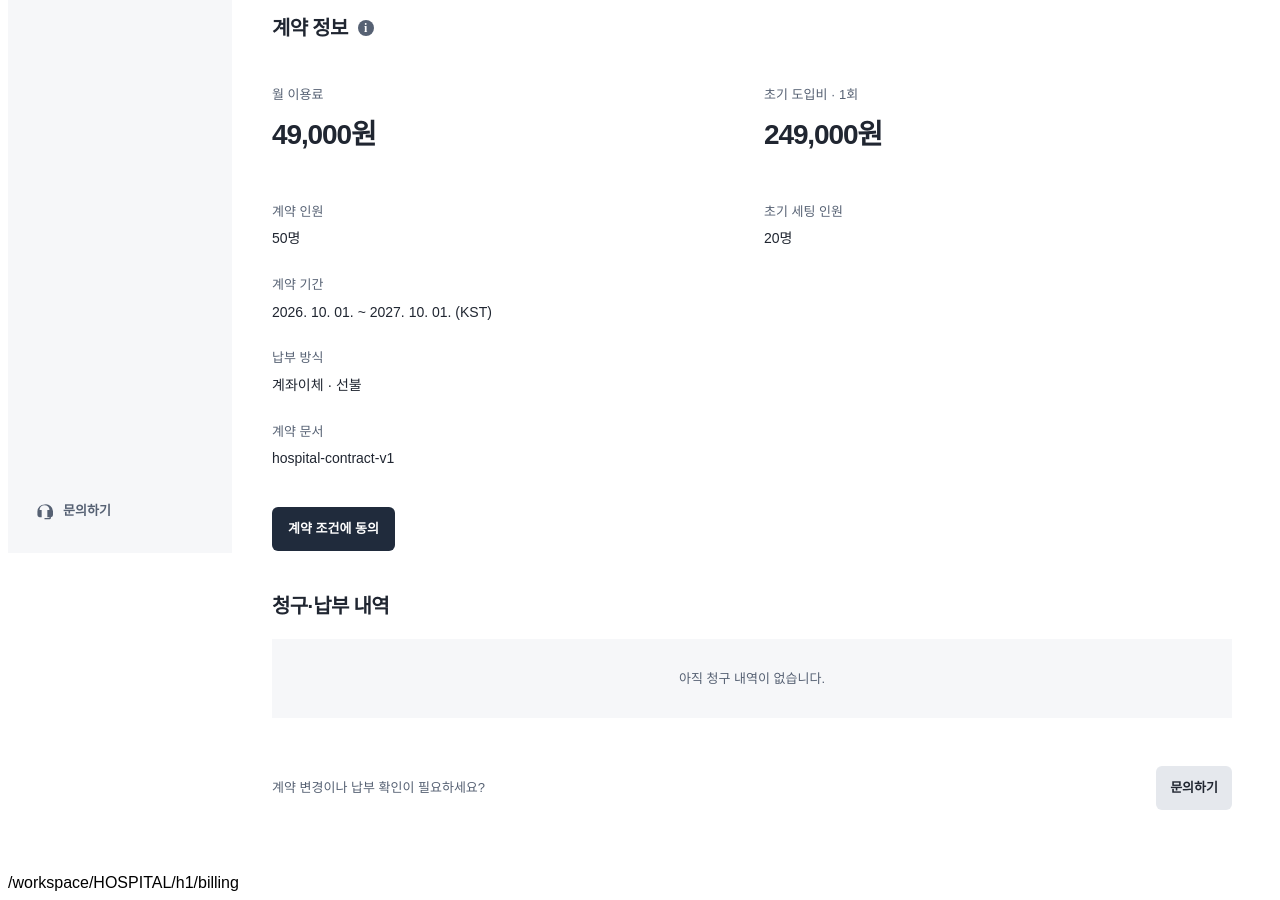
hospital management workspace › preserves owner contract acceptance and reveals setup review after server confirmation
(page scrolled)
Expected: the button "초기 세팅 확인 완료" is not shown
Click the button "계약 조건에 동의" at (334, 529), box [272,507,395,551]
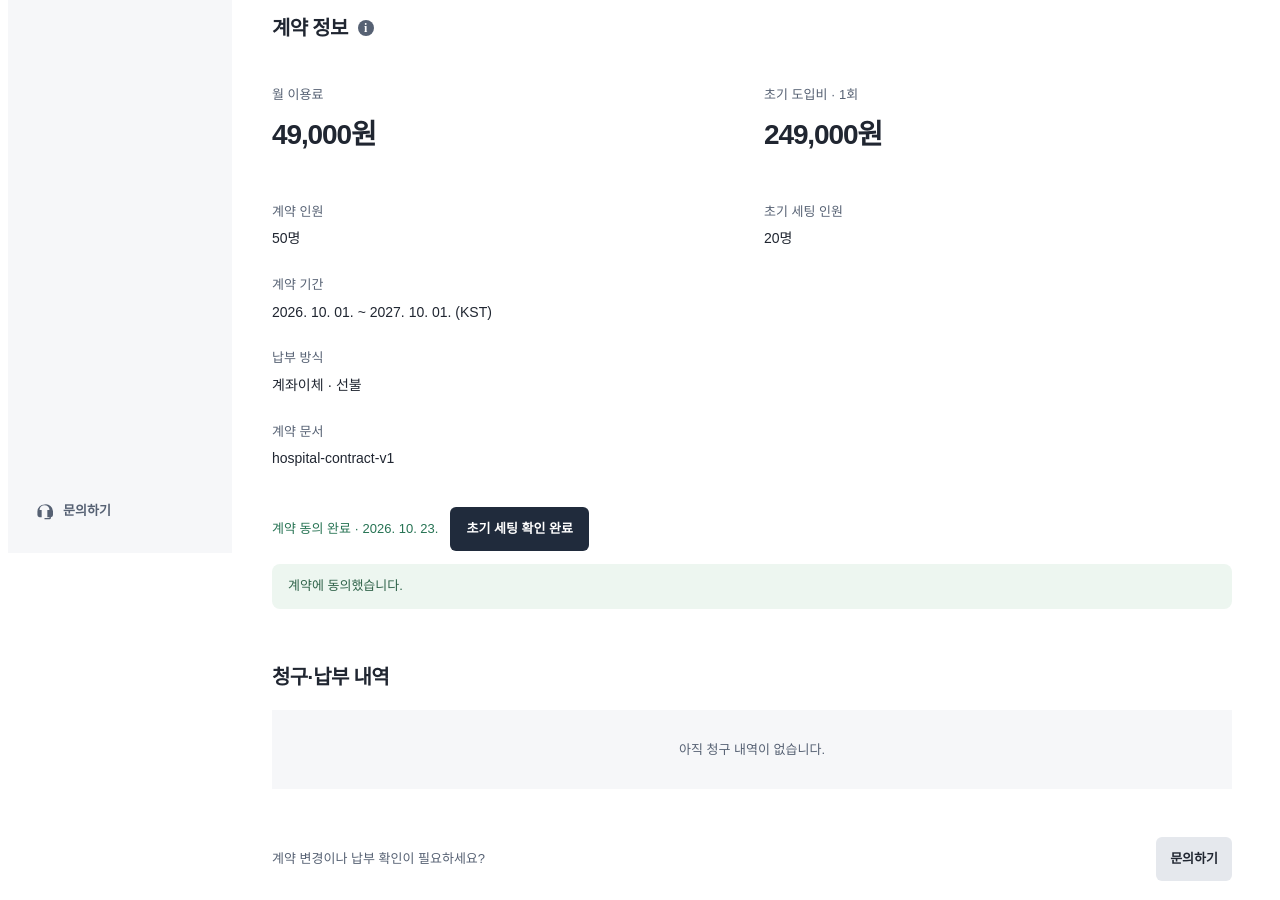
Expected: the button "초기 세팅 확인 완료" is shown, [450,507,589,551]
